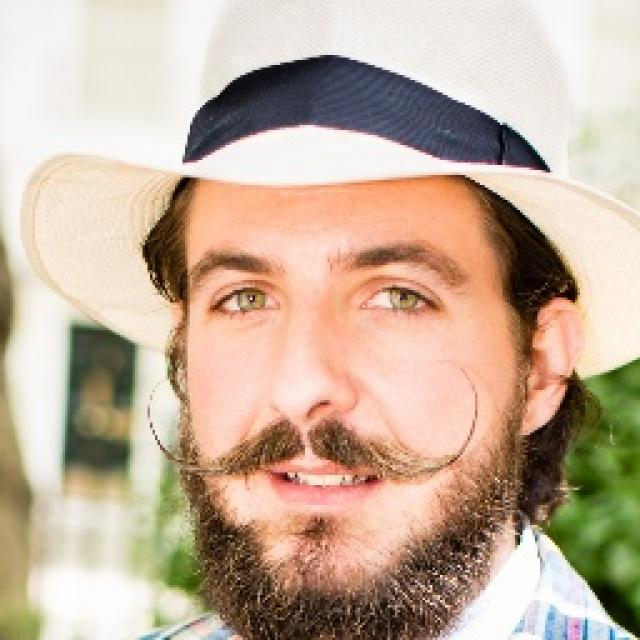earlobe: (516, 388, 548, 438)
eye: (357, 279, 440, 315), (214, 284, 283, 317)
nose: (270, 409, 350, 453)
wholeear: (516, 298, 582, 438)
